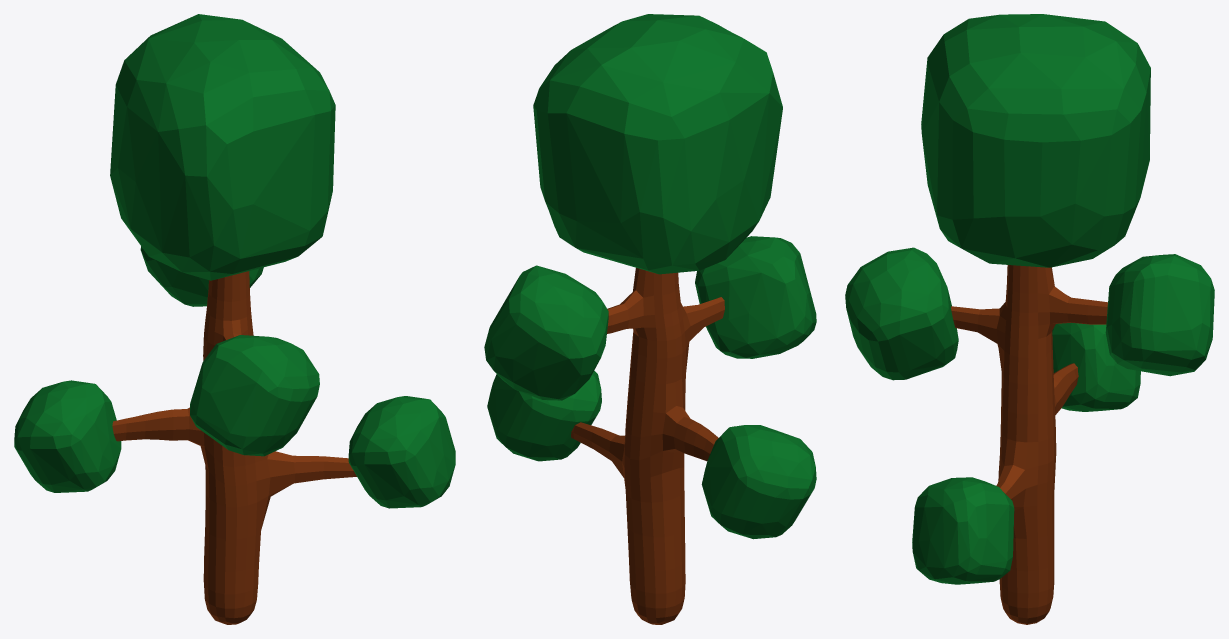
Rendered from myasset2.gltf.
3 views of the same model, side by side, from view 1: azimuth 30°, elevation 25°; view 2: azimuth 150°, elevation 25°; view 3: azimuth 270°, elevation 25° (orthographic). The views are drawn at different scales.
Visible parts, largest first — view 1: tree; view 2: tree; view 3: tree.
Boxes of the visible parts, <box> form: tree: <box>14,14,455,624</box>; tree: <box>484,14,816,624</box>; tree: <box>845,14,1214,624</box>.
Bounding box in the file's own units: 15.21 × 22.66 × 12.71.
1 material, 1 textured.
